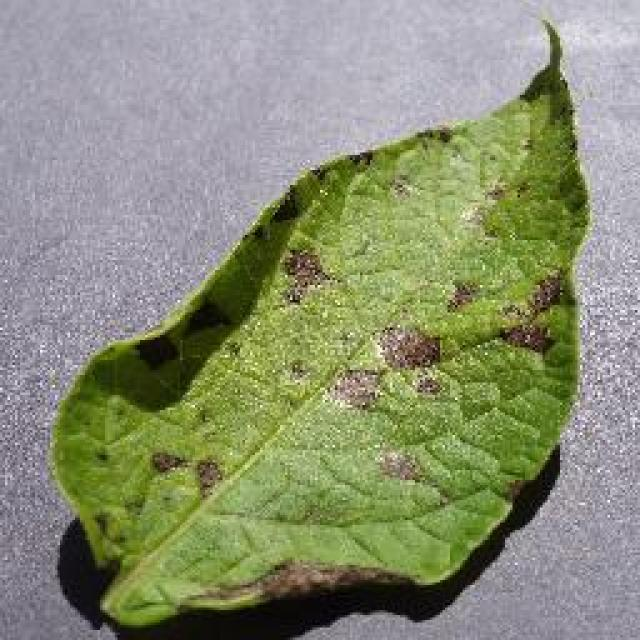early_blight: (43, 15, 595, 633)
